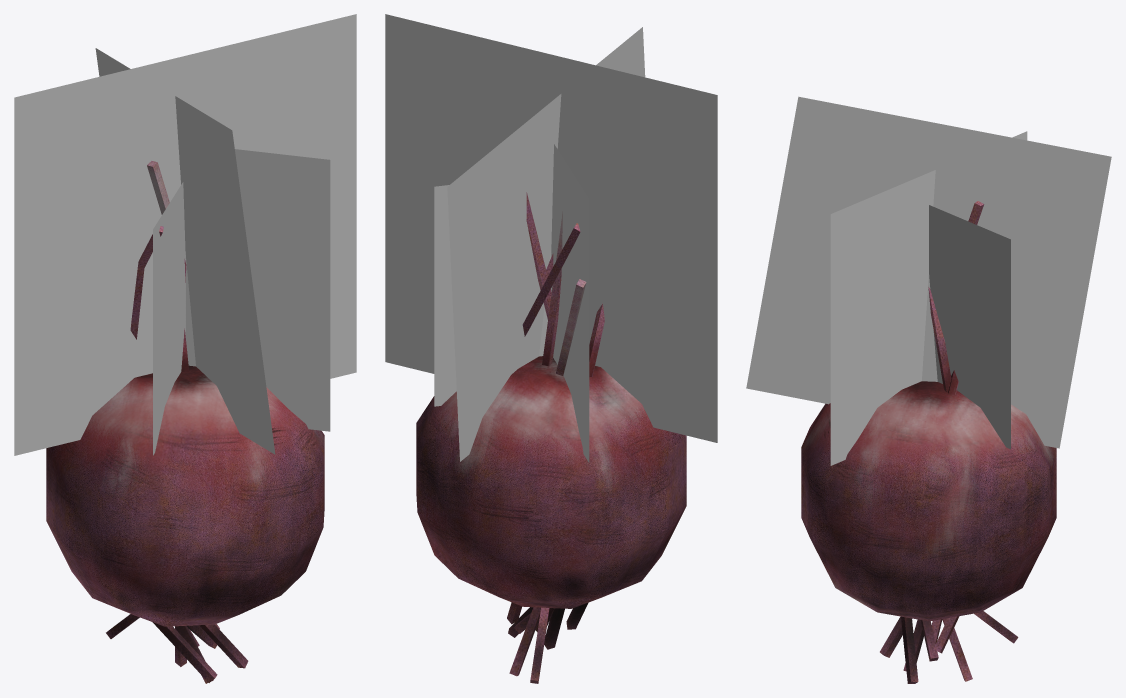
The model's file is beet.fbx.
3 renders of one model, left to right at view 1: azimuth 30°, elevation 25°; view 2: azimuth 150°, elevation 25°; view 3: azimuth 270°, elevation 25°, orthographic. The views are drawn at different scales.
Visible parts, largest first — view 1: Cube.001, Cube; view 2: Cube.001, Cube; view 3: Cube.001, Cube.
Boxes of the visible parts, left/top/right/bottom form: Cube.001: left=14, top=14, right=356, bottom=455; Cube: left=46, top=161, right=324, bottom=683; Cube.001: left=385, top=14, right=717, bottom=462; Cube: left=416, top=192, right=686, bottom=683; Cube.001: left=746, top=96, right=1111, bottom=465; Cube: left=801, top=201, right=1056, bottom=683.
Bounding box in the file's own units: 224 × 393 × 224.
